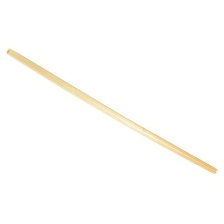drinking_straw: (1, 44, 223, 179)
